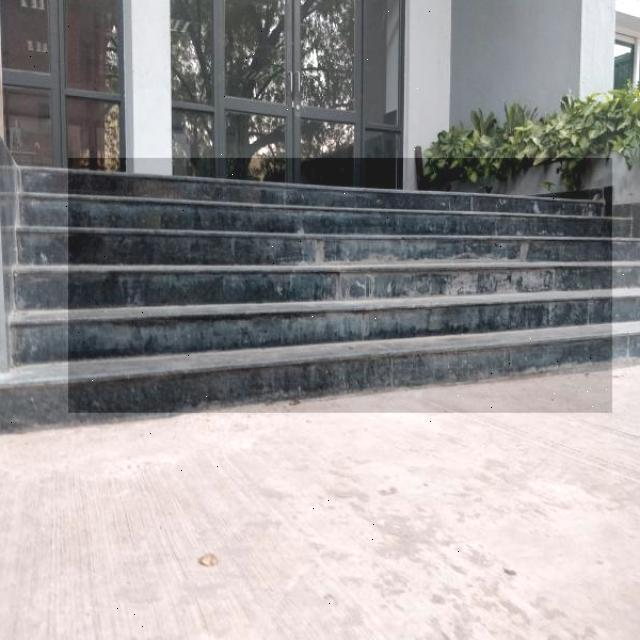stair: (68, 158, 612, 413)
